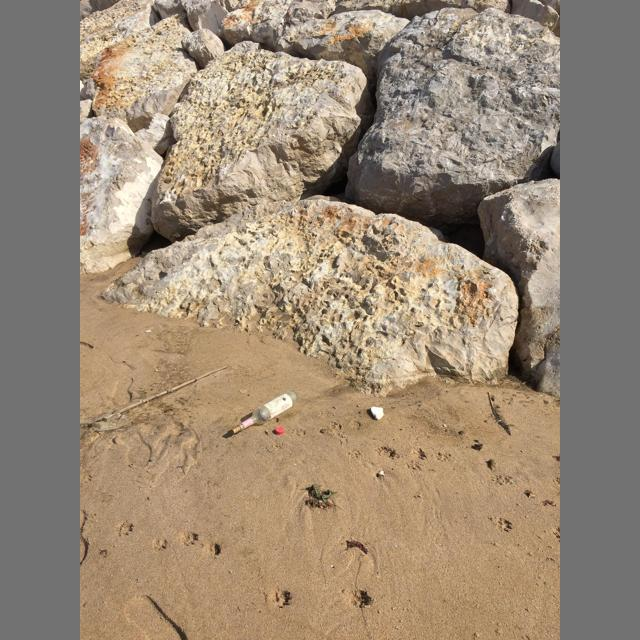litter: (238, 390, 298, 431), (80, 413, 129, 432), (312, 484, 334, 499), (371, 407, 384, 420), (275, 427, 284, 435)
